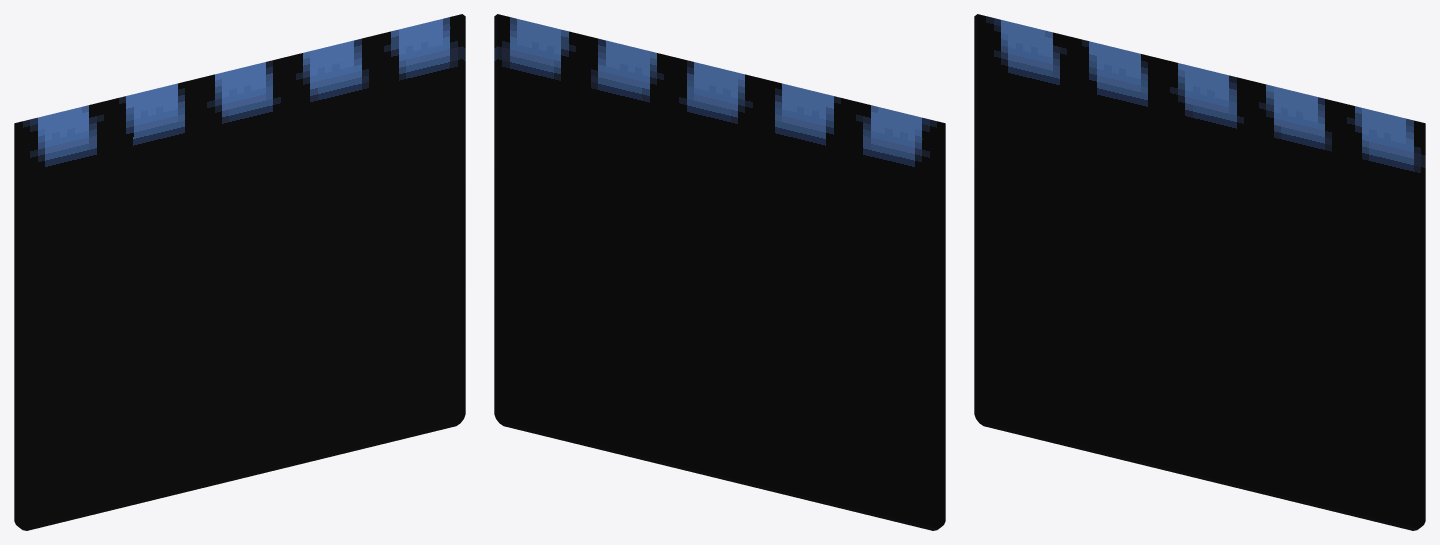
The model's file is ps2_save-icons_granturismo4-b-7.glb.
3 views of the same model, side by side, from view 1: azimuth 30°, elevation 25°; view 2: azimuth 150°, elevation 25°; view 3: azimuth 330°, elevation 25° (orthographic).
Parts seen in each view (by area): view 1: icon0.ico; view 2: icon0.ico; view 3: icon0.ico.
Boxes of the visible parts, box(x1,y1,x2,y2) form: icon0.ico: box(14, 14, 465, 530); icon0.ico: box(494, 14, 945, 530); icon0.ico: box(974, 14, 1425, 530).
Size of the model in its own units: 3.9 by 3.39 by 0.0815.
1 material, 1 textured.
